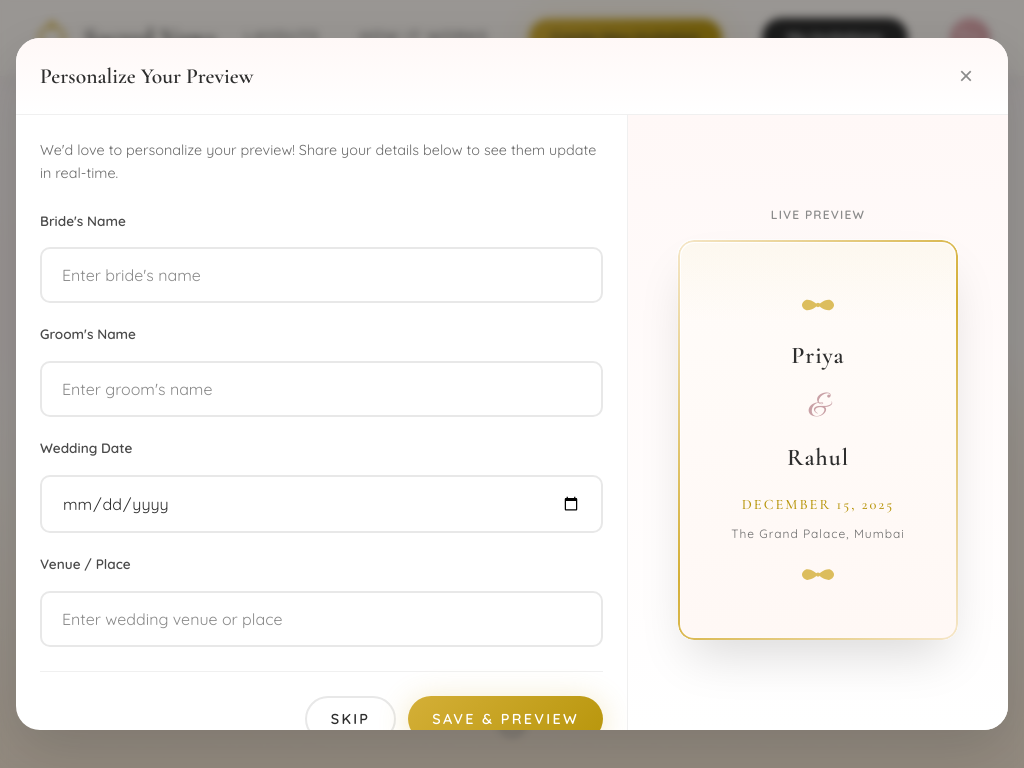
LandingPage Personalization Integration › User Flow › should save data to localStorage when user fills form and saves
Expected: the heading "Personalize Your Preview" is shown, [40,59,253,94]
Note: Fill form
Type "Sarah" into the field labelled "Bride's Name" at (322,275), box [40,247,603,303]
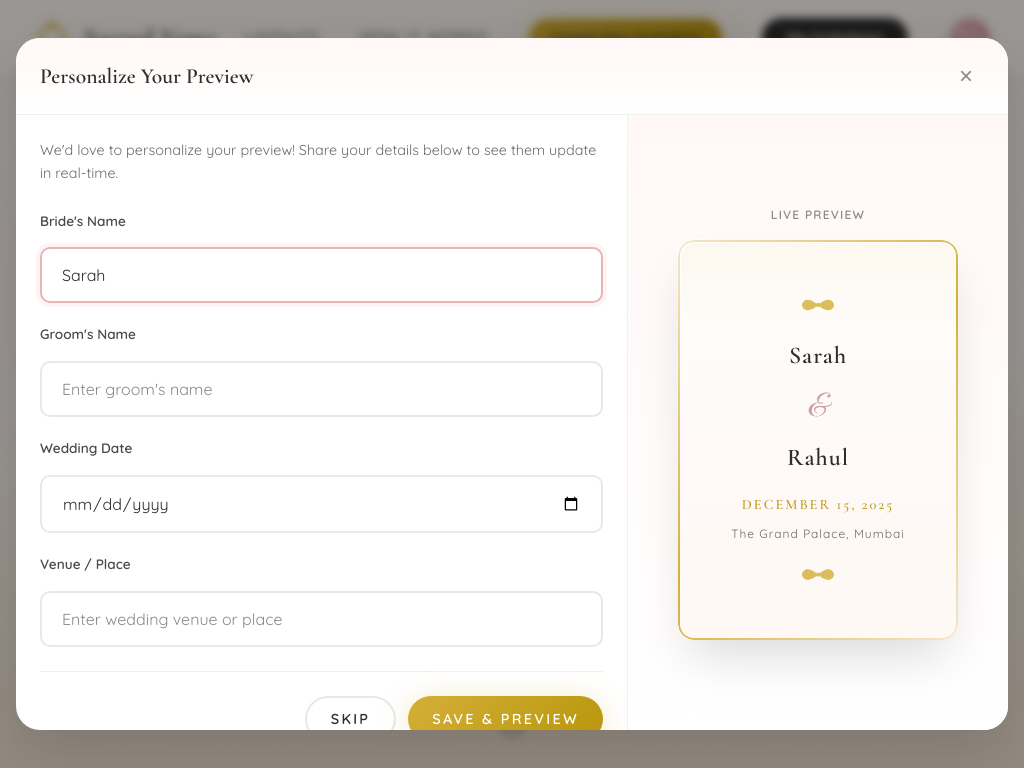
Type "John" into the field labelled "Groom's Name" at (322,389), box [40,361,603,417]
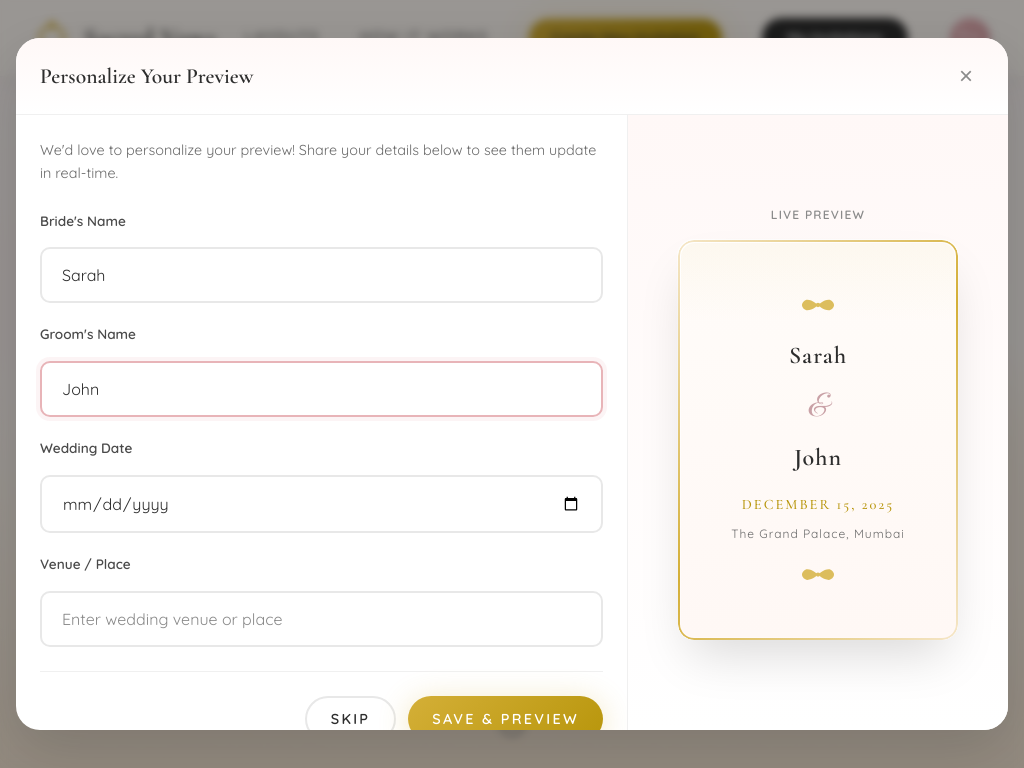
Type "2025-12-15" into the date field labelled "Wedding Date" at (322,504), box [40,475,603,533]
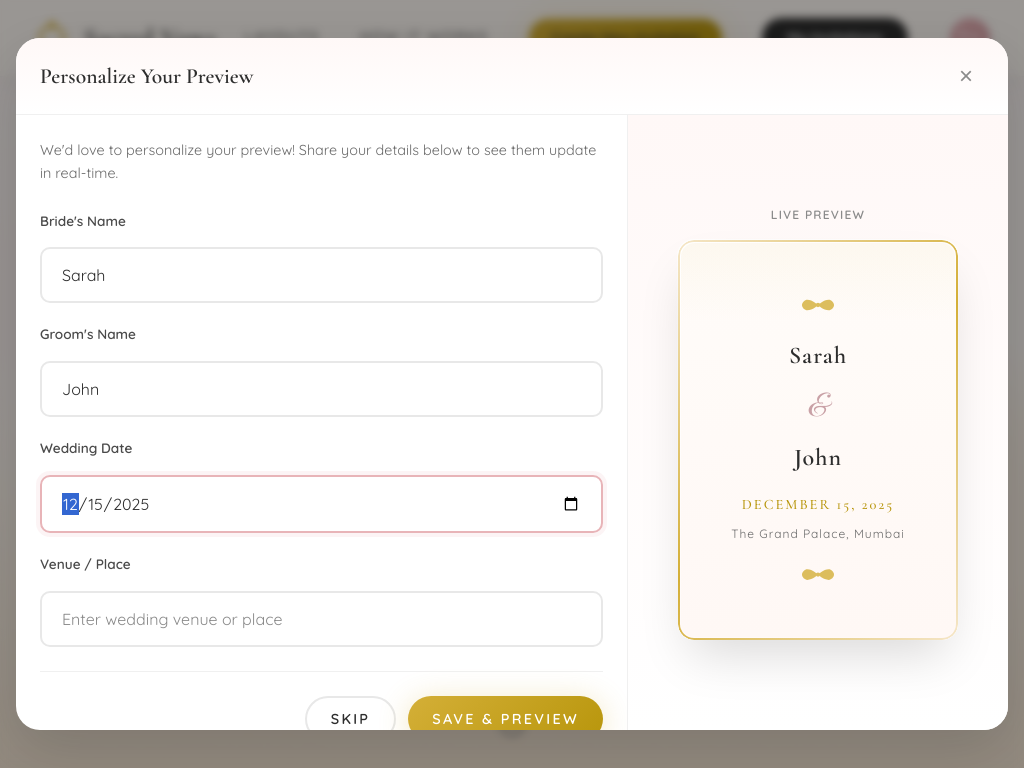
Type "Grand Hotel" into the field labelled "Venue / Place" at (322,618), box [40,590,603,646]
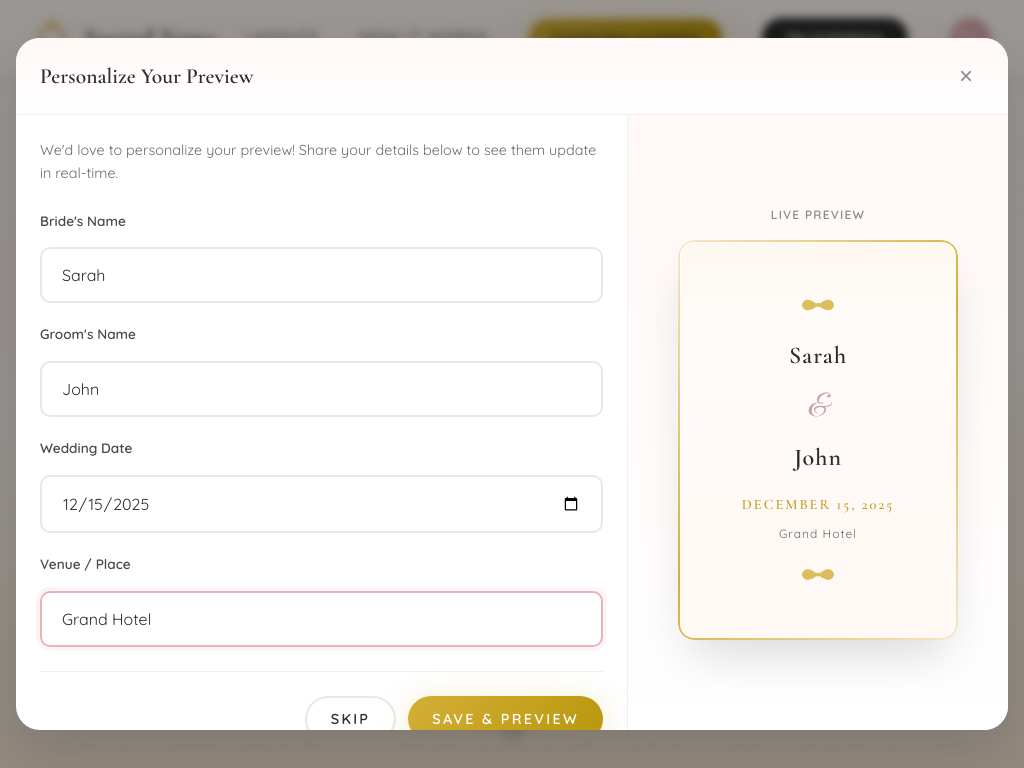
Click the button "Save & Preview" at (506,718), box [408,696,603,742]
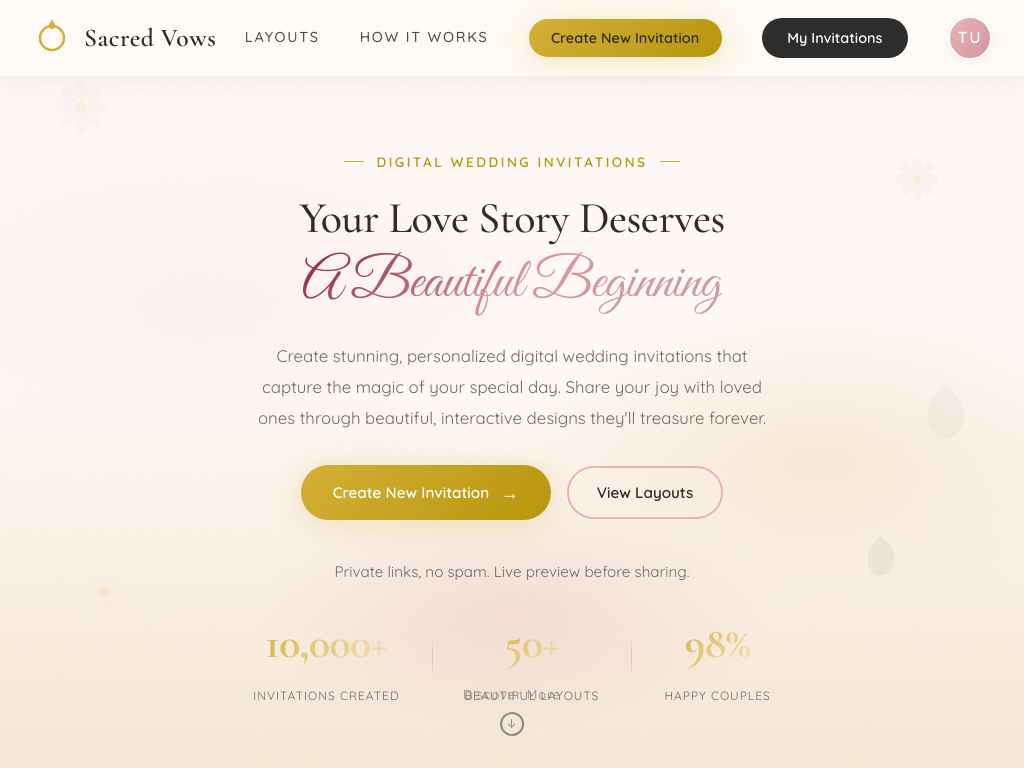
Result: the heading "Personalize Your Preview" is gone
